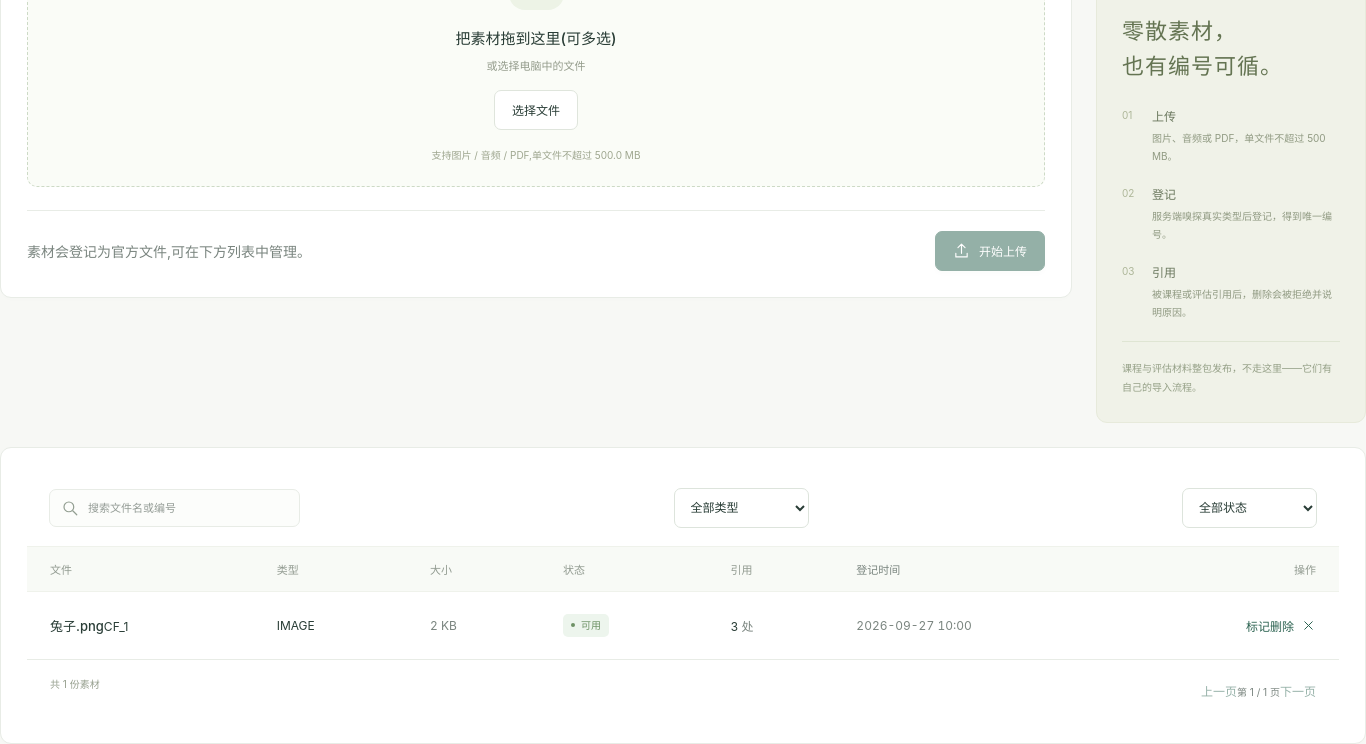
Test case: official files page › explains why a referenced file cannot be deleted
(page scrolled)
Check: the text "兔子.png" is shown, box [50, 618, 104, 634]
Click the button "标记删除" at [1281, 626], box [1246, 611, 1316, 640]
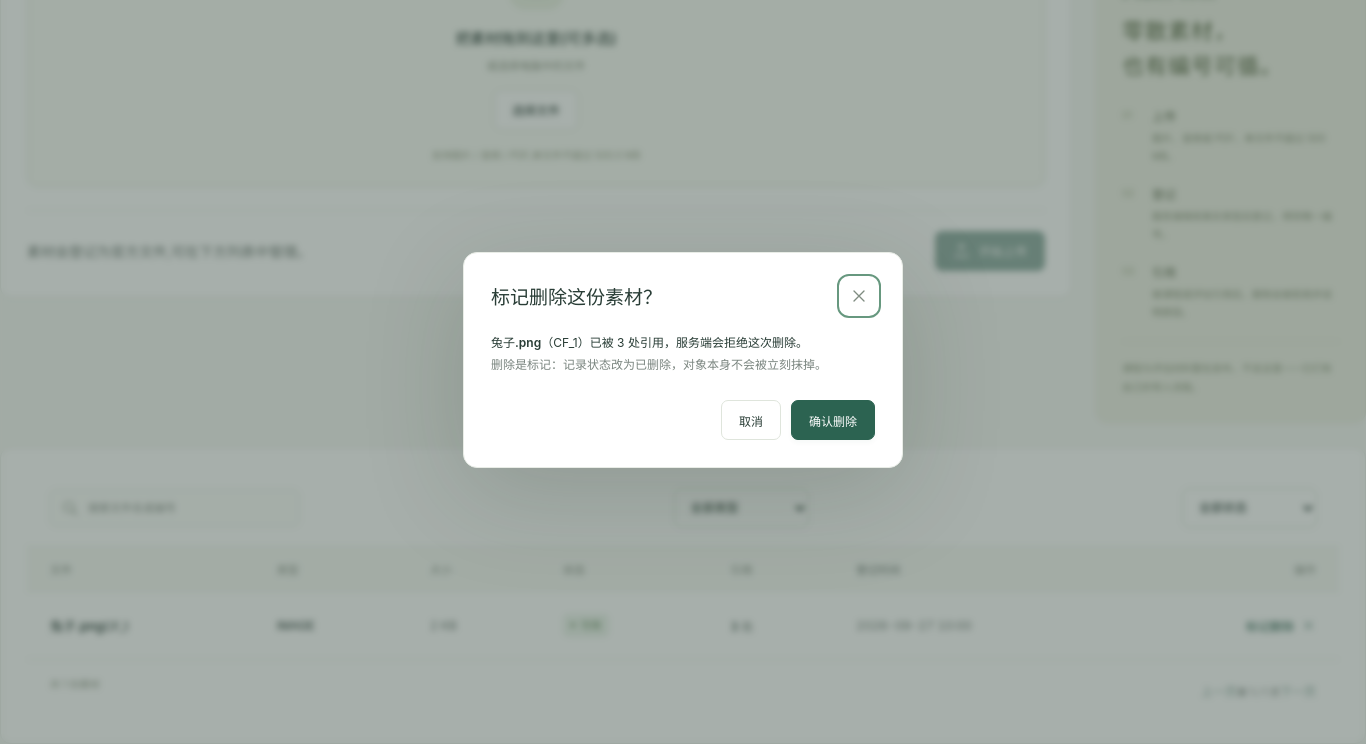
Click the button "确认删除" at [833, 420], box [791, 400, 875, 440]
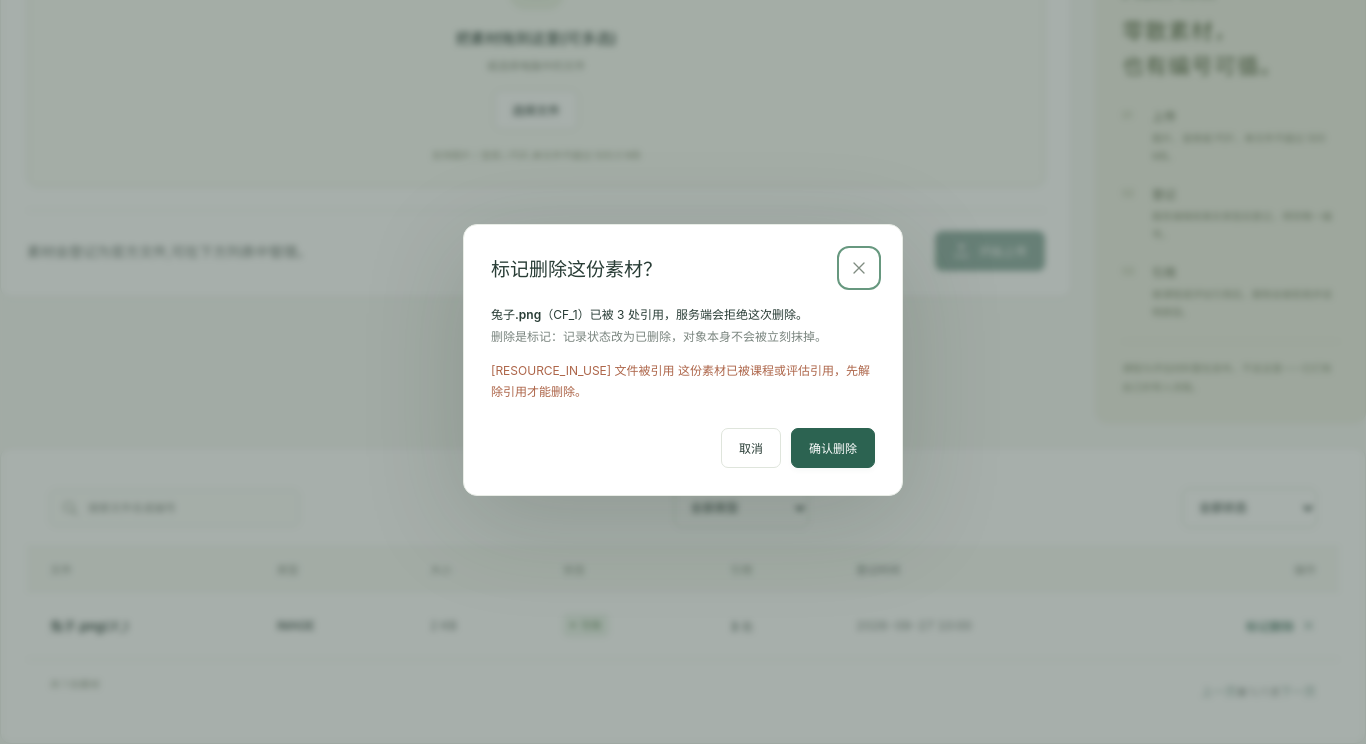
Check: the button "确认删除" is shown, box [791, 428, 875, 468]
Check: the message shows "RESOURCE_IN_USE", box [495, 362, 607, 378]
Check: the message shows "已被课程或评估引用", box [491, 362, 870, 399]
